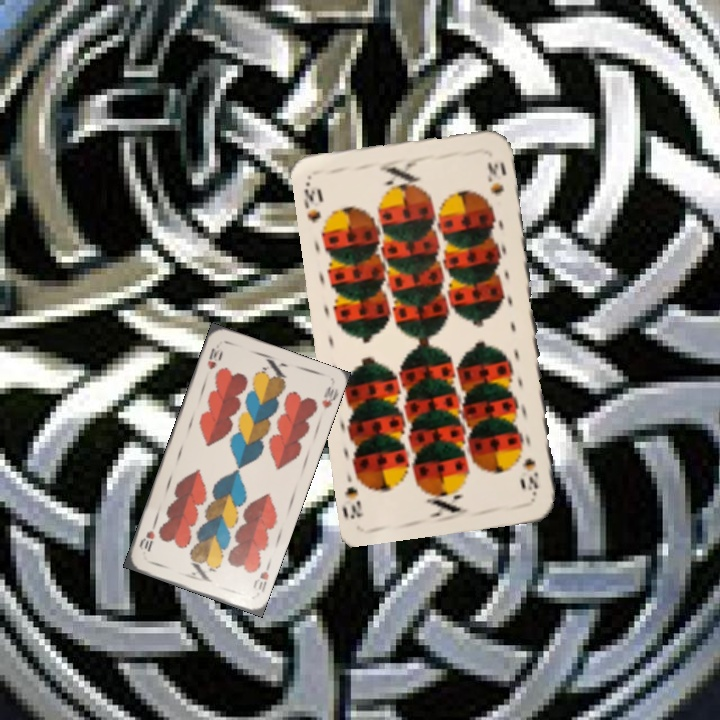H10: (249, 559, 273, 595), (203, 344, 225, 372)
S10: (299, 178, 326, 225), (522, 454, 541, 498)
